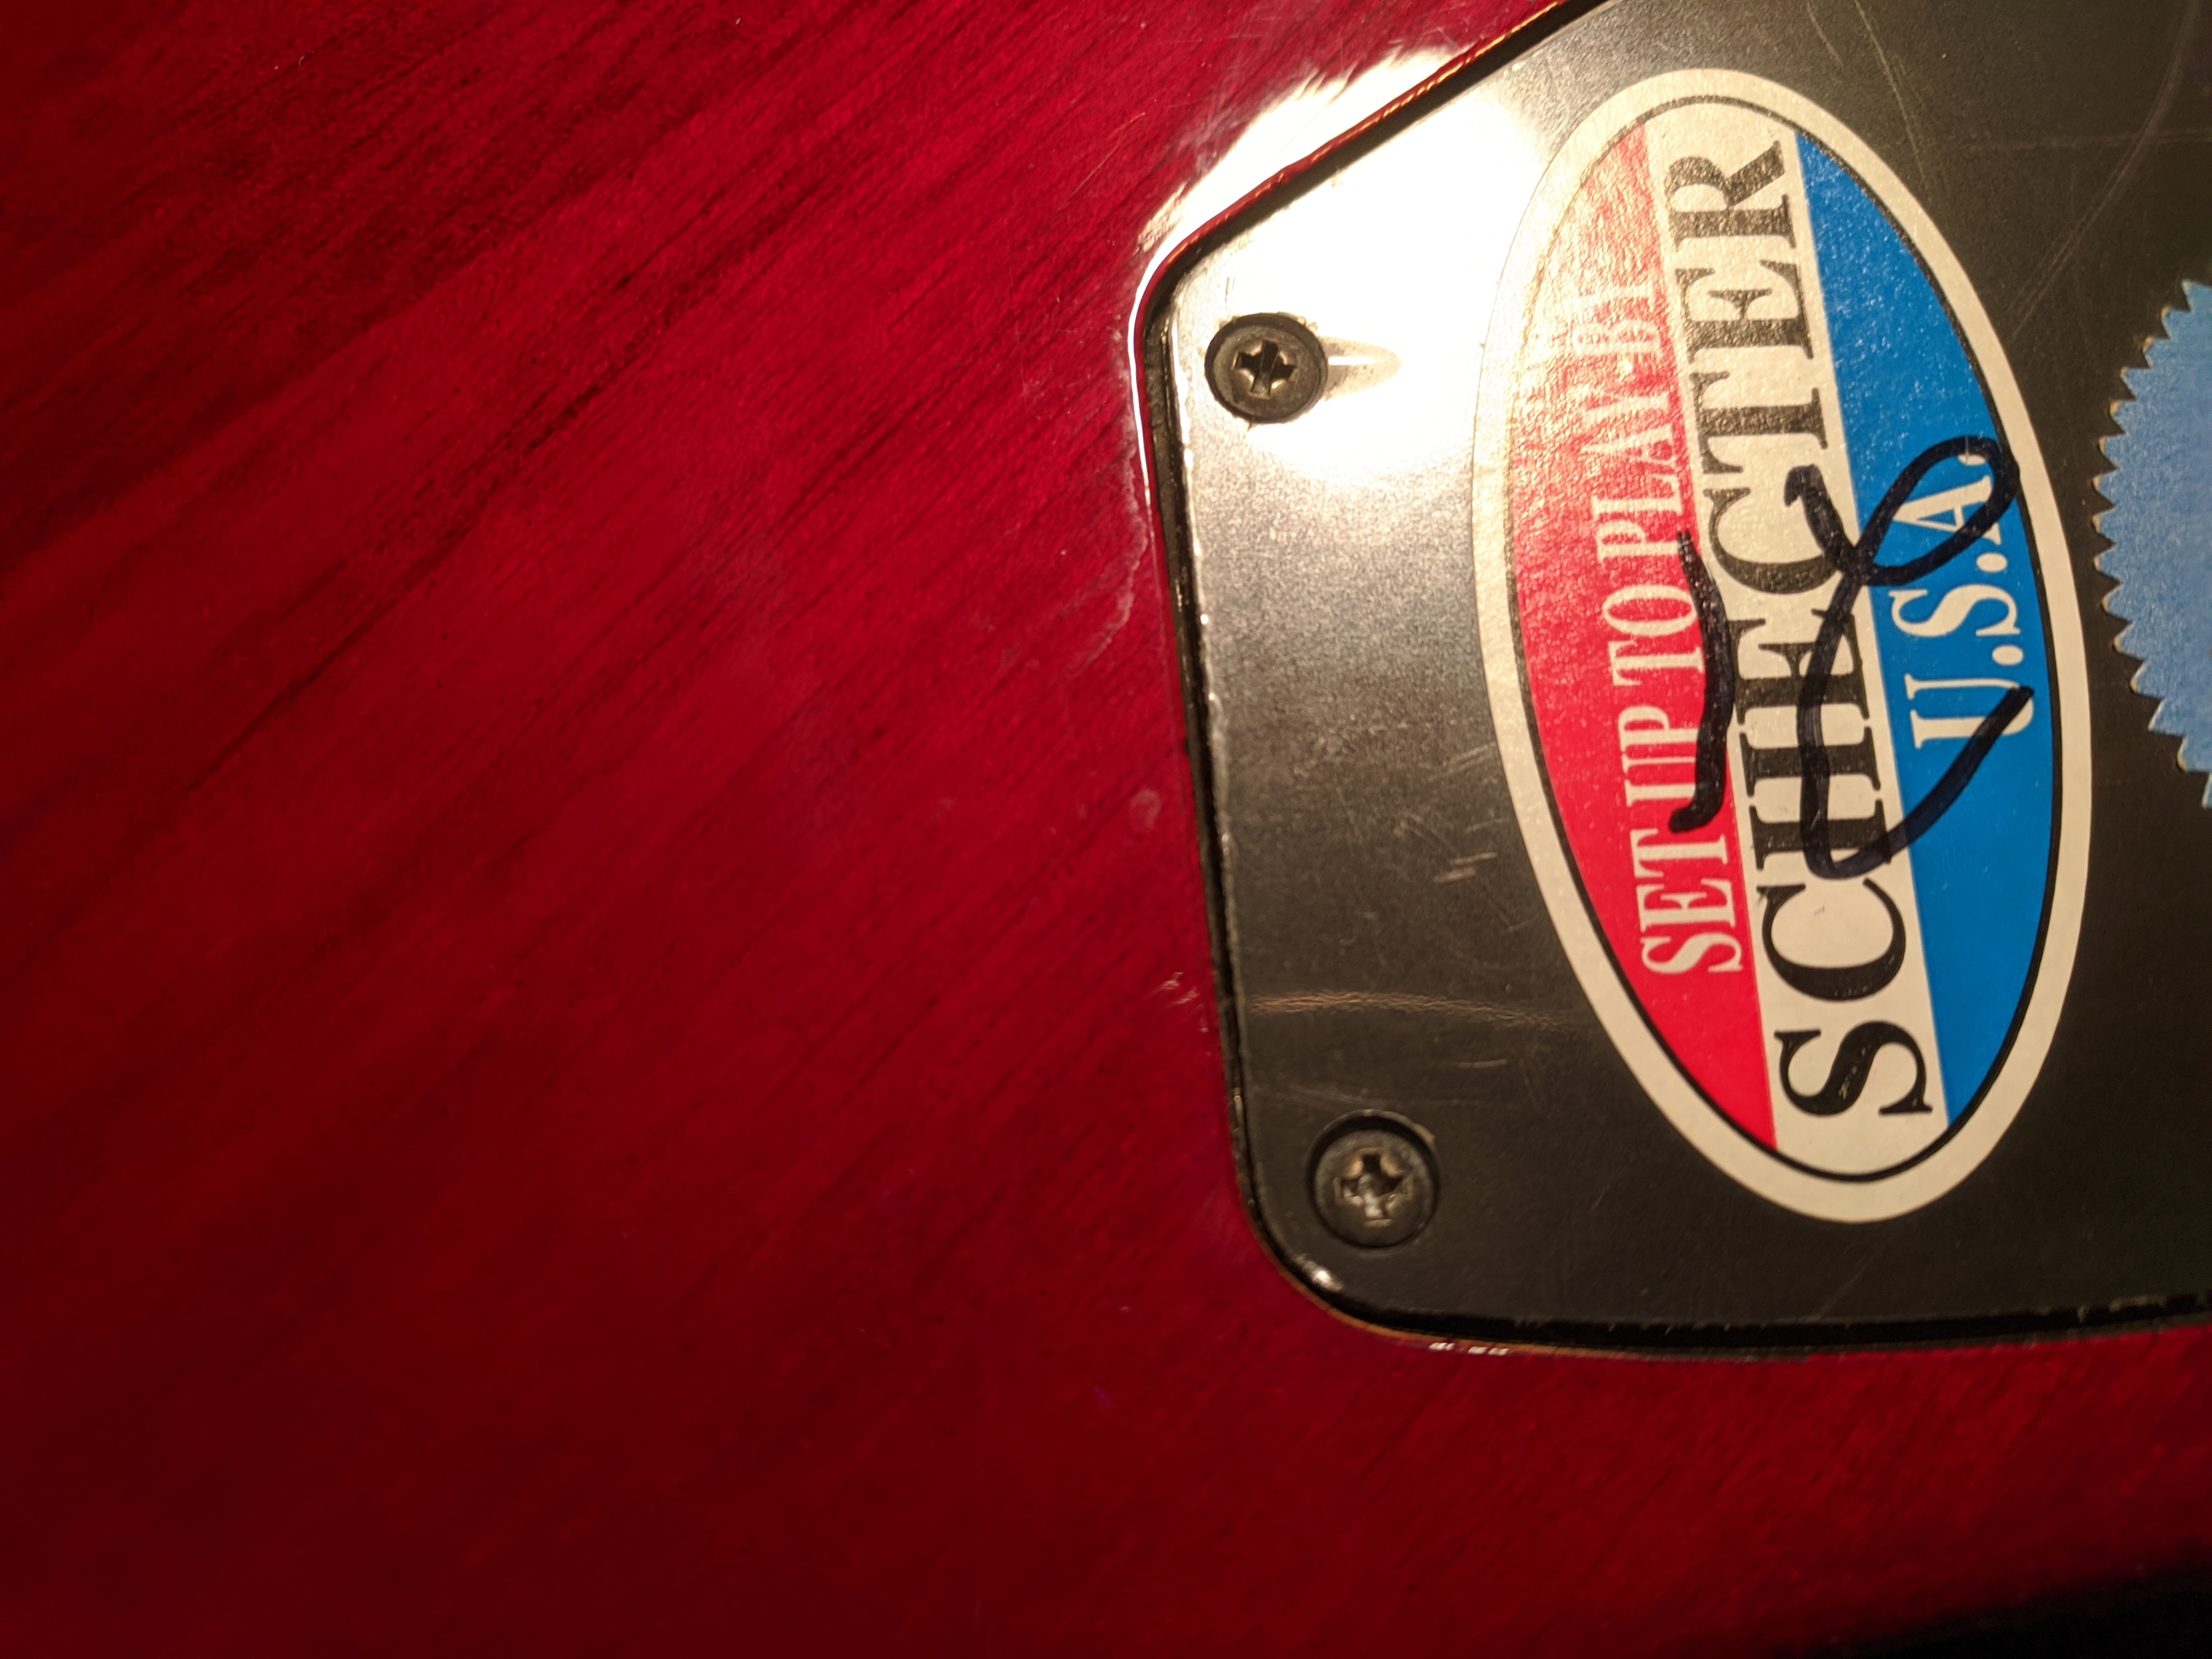cross_recessed_screw: (1303, 1112, 1440, 1251), (1205, 307, 1336, 427)
